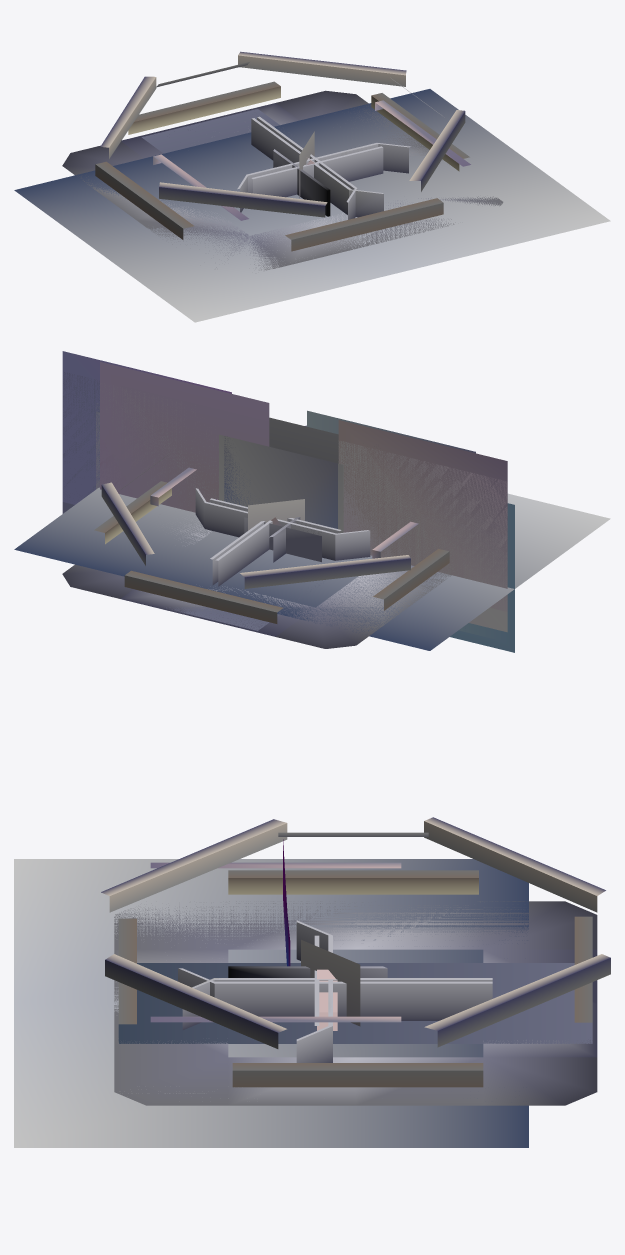
File: arena_backlash.glb
3 views of the same model, one above another, from view 1: azimuth 30°, elevation 25°; view 2: azimuth 150°, elevation 25°; view 3: azimuth 270°, elevation 25° (orthographic). The views are drawn at different scales.
Parts seen in each view (by area): view 1: 0x5d9_Arena_Backlash_Barricades, 0x55d_Arena_Normal_Match_Ring_Mat_Polygon, 0x55e_Arena_Scaffolding_Piece_1_Polygon, 0x55b_Arena_Normal_Match_Outside_Floormats_Four_Corner_Secti, 0x55a_Arena_Back_Rafter_Sign_Polygon, 0x5da_Arena_Backlash_Stage, 0x551_Arena_Right_Barricade_Lower_Side_Polygon, 0x54f_Arena_Right_Aisle_Barricade_Polygon, 0x556_Arena_Left_Barricade_Upper_Side_Polygon, 0x5e1_Arena_Backlash_Back_Lower_Structures, 0x54e_Arena_Left_Aisle_Barricade_Polygon, 0x553_Arena_Front_Barricade_Right_Side_Polygon (+3 smaller); view 2: 0x5db_Arena_Backlash_Ramp_from_Stage_to_Ring, 0x5d9_Arena_Backlash_Barricades, 0x5dc_Arena_Backlash_Front_Upper_Structures, 0x5e3_Arena_Backlash_Top_Titan_Tron_Left_Side, 0x5df_Arena_Backlash_Middle_Lower_Structures, 0x55b_Arena_Normal_Match_Outside_Floormats_Four_Corner_Secti, 0x55d_Arena_Normal_Match_Ring_Mat_Polygon, 0x55e_Arena_Scaffolding_Piece_1_Polygon, 0x55a_Arena_Back_Rafter_Sign_Polygon, 0x552_Arena_Right_Barricade_Upper_Side_Polygon, 0xaa8_Stage_RAW, 0x5dd_Arena_Backlash_Front_Lower_Structures (+10 smaller); view 3: 0x5d9_Arena_Backlash_Barricades, 0x55b_Arena_Normal_Match_Outside_Floormats_Four_Corner_Secti, 0x55a_Arena_Back_Rafter_Sign_Polygon, 0x55e_Arena_Scaffolding_Piece_1_Polygon, 0x55d_Arena_Normal_Match_Ring_Mat_Polygon, 0x5da_Arena_Backlash_Stage, 0x555_Arena_Left_Barricade_Lower_Side_Polygon, 0x554_Arena_Front_Barricade_Left_Side_Polygon, 0x5e1_Arena_Backlash_Back_Lower_Structures, 0x559_Arena_Front_Rafter_Sign_Polygon, 0x553_Arena_Front_Barricade_Right_Side_Polygon, 0x54e_Arena_Left_Aisle_Barricade_Polygon (+3 smaller).
Boxes of the visible parts, left/top/right/bottom form: 0x5d9_Arena_Backlash_Barricades: left=14, top=89, right=610, bottom=322; 0x55d_Arena_Normal_Match_Ring_Mat_Polygon: left=95, top=81, right=469, bottom=251; 0x55e_Arena_Scaffolding_Piece_1_Polygon: left=100, top=51, right=465, bottom=217; 0x55b_Arena_Normal_Match_Outside_Floormats_Four_Corner_Secti: left=92, top=103, right=444, bottom=264; 0x55a_Arena_Back_Rafter_Sign_Polygon: left=62, top=90, right=503, bottom=270; 0x5da_Arena_Backlash_Stage: left=141, top=109, right=300, bottom=153; 0x551_Arena_Right_Barricade_Lower_Side_Polygon: left=251, top=118, right=383, bottom=217; 0x54f_Arena_Right_Aisle_Barricade_Polygon: left=251, top=156, right=339, bottom=197; 0x556_Arena_Left_Barricade_Upper_Side_Polygon: left=293, top=146, right=383, bottom=181; 0x5e1_Arena_Backlash_Back_Lower_Structures: left=153, top=100, right=470, bottom=220; 0x54e_Arena_Left_Aisle_Barricade_Polygon: left=273, top=149, right=330, bottom=216; 0x553_Arena_Front_Barricade_Right_Side_Polygon: left=250, top=143, right=410, bottom=174; 0x5db_Arena_Backlash_Ramp_from_Stage_to_Ring: left=100, top=361, right=507, bottom=611; 0x5d9_Arena_Backlash_Barricades: left=14, top=487, right=610, bottom=650; 0x5dc_Arena_Backlash_Front_Upper_Structures: left=100, top=383, right=507, bottom=632; 0x5e3_Arena_Backlash_Top_Titan_Tron_Left_Side: left=219, top=434, right=337, bottom=528; 0x5df_Arena_Backlash_Middle_Lower_Structures: left=62, top=351, right=475, bottom=504; 0x55b_Arena_Normal_Match_Outside_Floormats_Four_Corner_Secti: left=121, top=512, right=451, bottom=636; 0x55d_Arena_Normal_Match_Ring_Mat_Polygon: left=94, top=481, right=449, bottom=623; 0x55e_Arena_Scaffolding_Piece_1_Polygon: left=101, top=425, right=410, bottom=588; 0x55a_Arena_Back_Rafter_Sign_Polygon: left=62, top=564, right=384, bottom=648; 0x552_Arena_Right_Barricade_Upper_Side_Polygon: left=207, top=502, right=370, bottom=560; 0xaa8_Stage_RAW: left=269, top=417, right=374, bottom=463; 0x5dd_Arena_Backlash_Front_Lower_Structures: left=96, top=403, right=514, bottom=643; 0x5d9_Arena_Backlash_Barricades: left=14, top=859, right=528, bottom=1147; 0x55b_Arena_Normal_Match_Outside_Floormats_Four_Corner_Secti: left=114, top=901, right=597, bottom=1105; 0x55a_Arena_Back_Rafter_Sign_Polygon: left=114, top=901, right=597, bottom=1105; 0x55e_Arena_Scaffolding_Piece_1_Polygon: left=101, top=817, right=610, bottom=1048; 0x55d_Arena_Normal_Match_Ring_Mat_Polygon: left=118, top=870, right=592, bottom=1087; 0x5da_Arena_Backlash_Stage: left=118, top=963, right=592, bottom=1043; 0x555_Arena_Left_Barricade_Lower_Side_Polygon: left=178, top=968, right=492, bottom=1020; 0x554_Arena_Front_Barricade_Left_Side_Polygon: left=219, top=981, right=433, bottom=1020; 0x5e1_Arena_Backlash_Back_Lower_Structures: left=150, top=862, right=401, bottom=1022; 0x559_Arena_Front_Rafter_Sign_Polygon: left=301, top=939, right=360, bottom=1026; 0x553_Arena_Front_Barricade_Right_Side_Polygon: left=296, top=937, right=332, bottom=1062; 0x54e_Arena_Left_Aisle_Barricade_Polygon: left=228, top=966, right=387, bottom=977.
Bounding box in the file's own units: 11.41 × 4.62 × 9.17.
